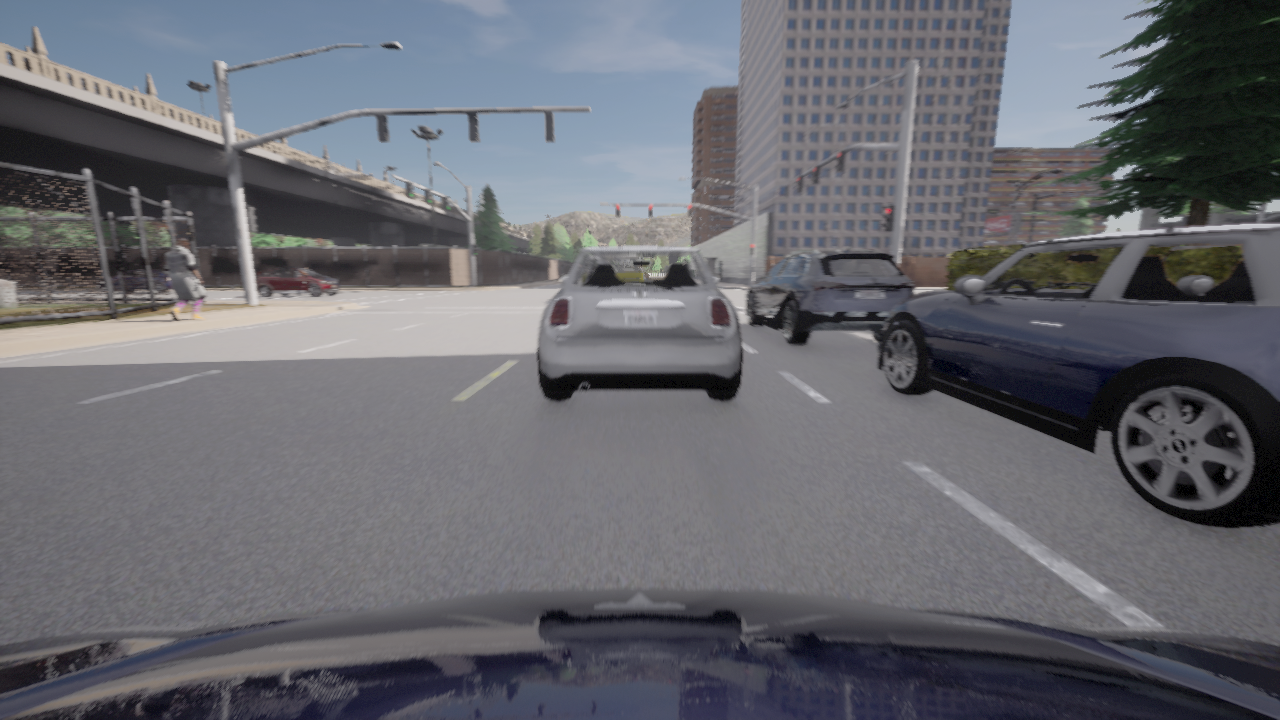cyclist: (0, 588, 1279, 719), (877, 223, 1279, 528), (536, 247, 743, 401), (745, 247, 915, 344), (255, 268, 338, 297), (97, 270, 172, 293)
pedestrian: (165, 239, 205, 321)
